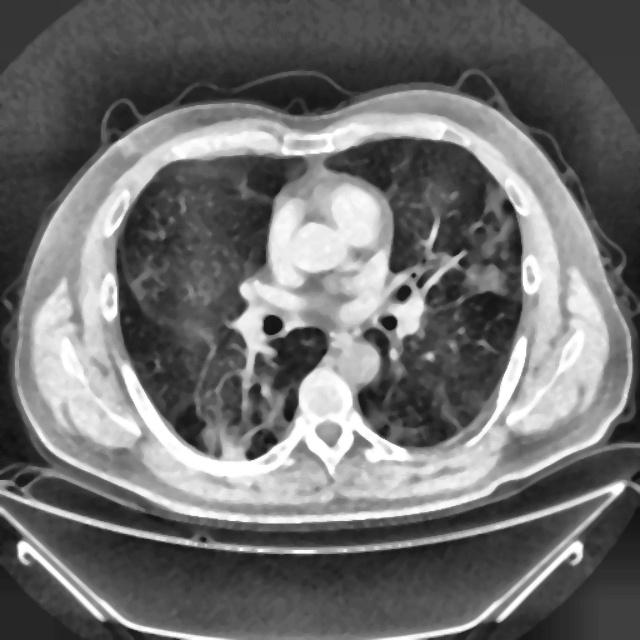covid: (11, 74, 636, 534)
